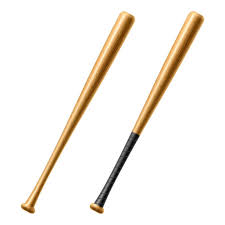baseball bat: (91, 9, 205, 213), (21, 11, 135, 213)
